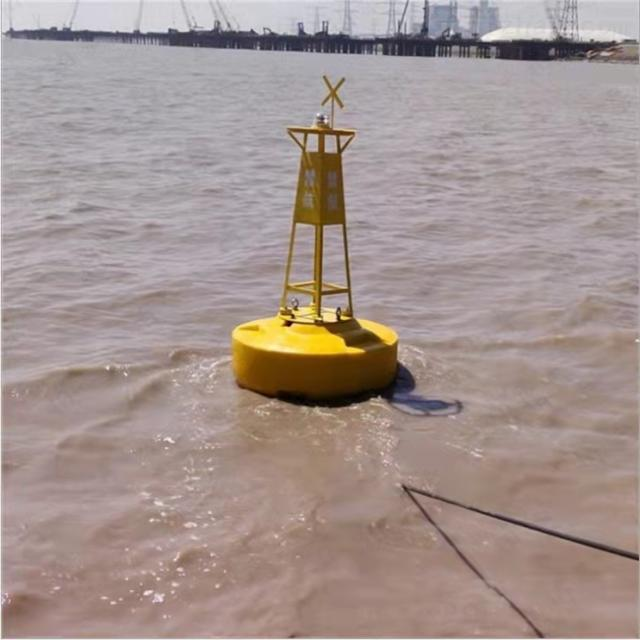buoy: (230, 67, 406, 393)
